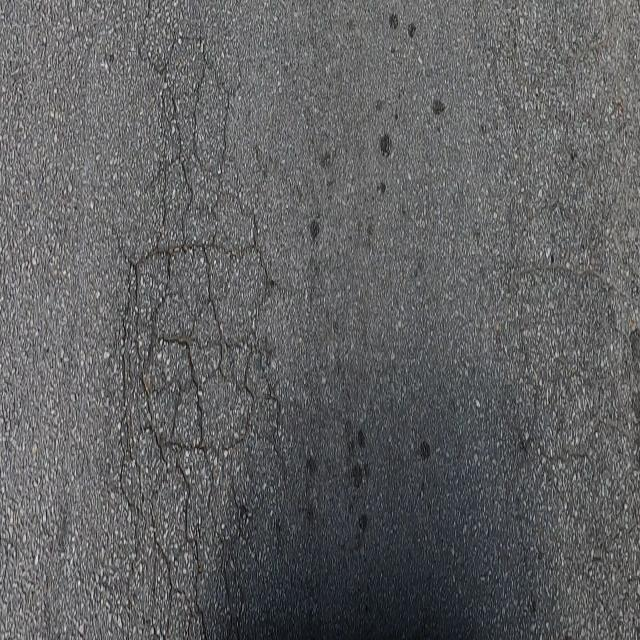Retak-Buaya: (120, 31, 273, 635), (517, 258, 640, 565)
